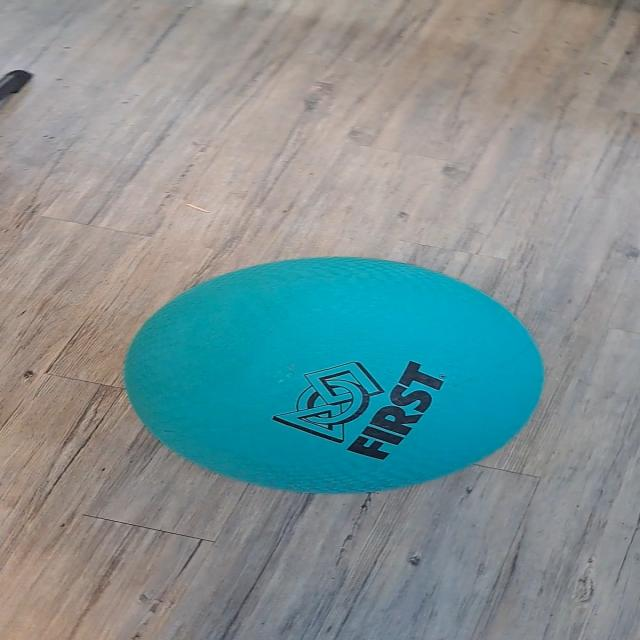ALGAE: (120, 255, 547, 495)
